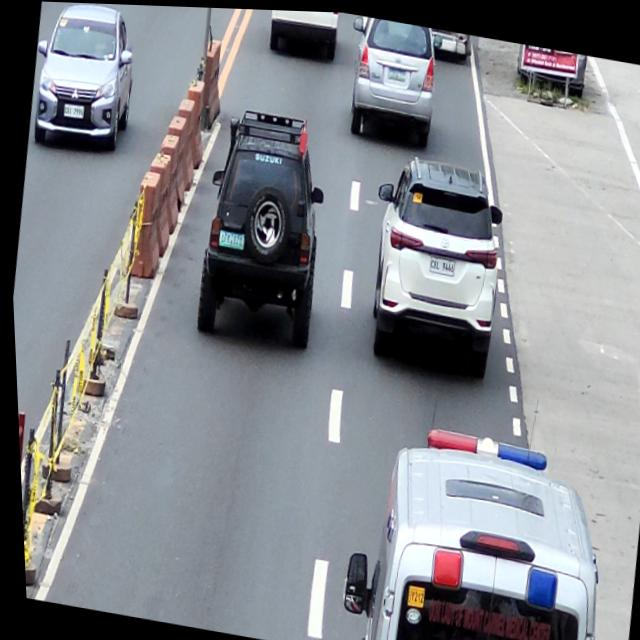Car: (325, 410, 617, 640), (351, 147, 513, 380), (186, 104, 338, 348), (24, 1, 144, 160), (337, 11, 447, 149), (266, 8, 343, 63)
License-Plate: (425, 253, 454, 274), (216, 229, 242, 249), (61, 102, 84, 120), (387, 64, 406, 80)
